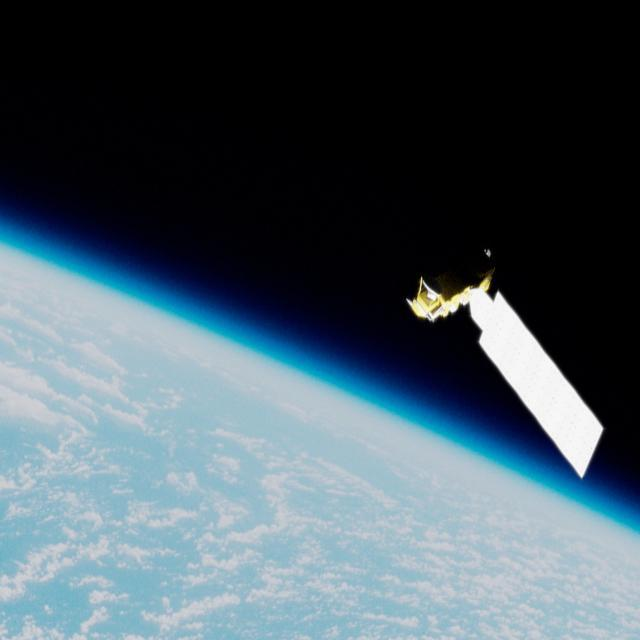medium_debris: (398, 222, 622, 490)
